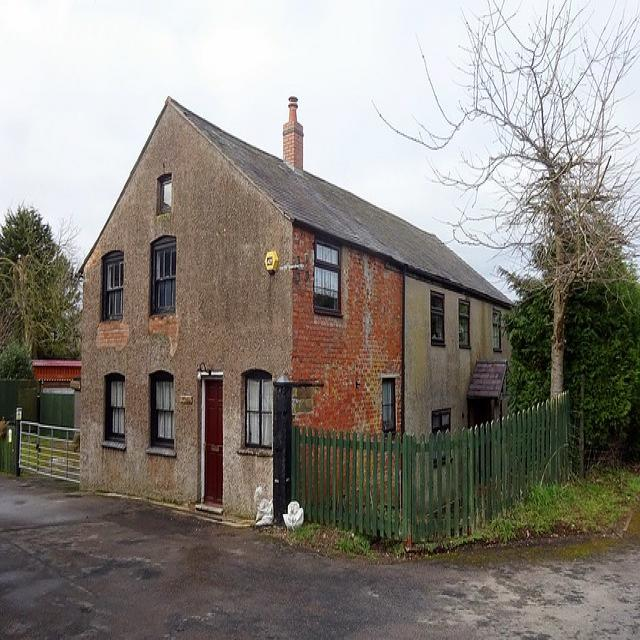Normal_building: (74, 98, 529, 545)
